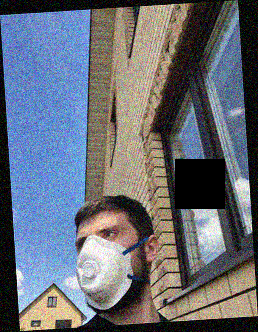with_mask: (75, 223, 137, 314)
